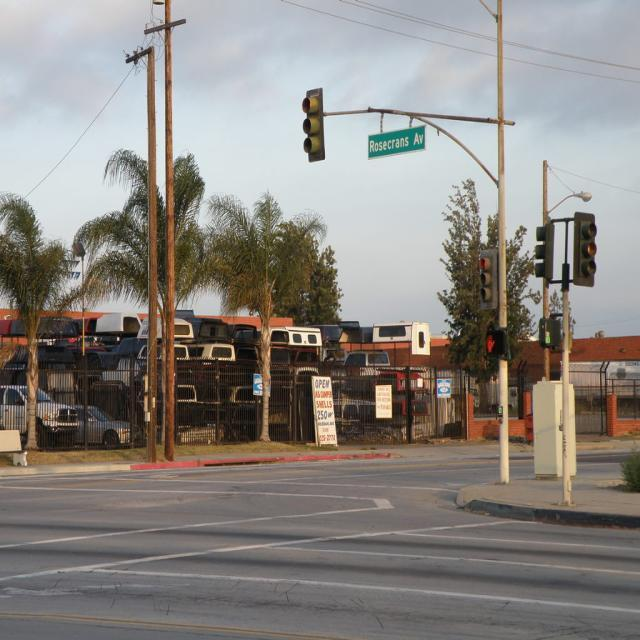off traffic light: (302, 90, 328, 162)
traffic light: (574, 215, 597, 287), (477, 250, 498, 304), (535, 225, 552, 283)
